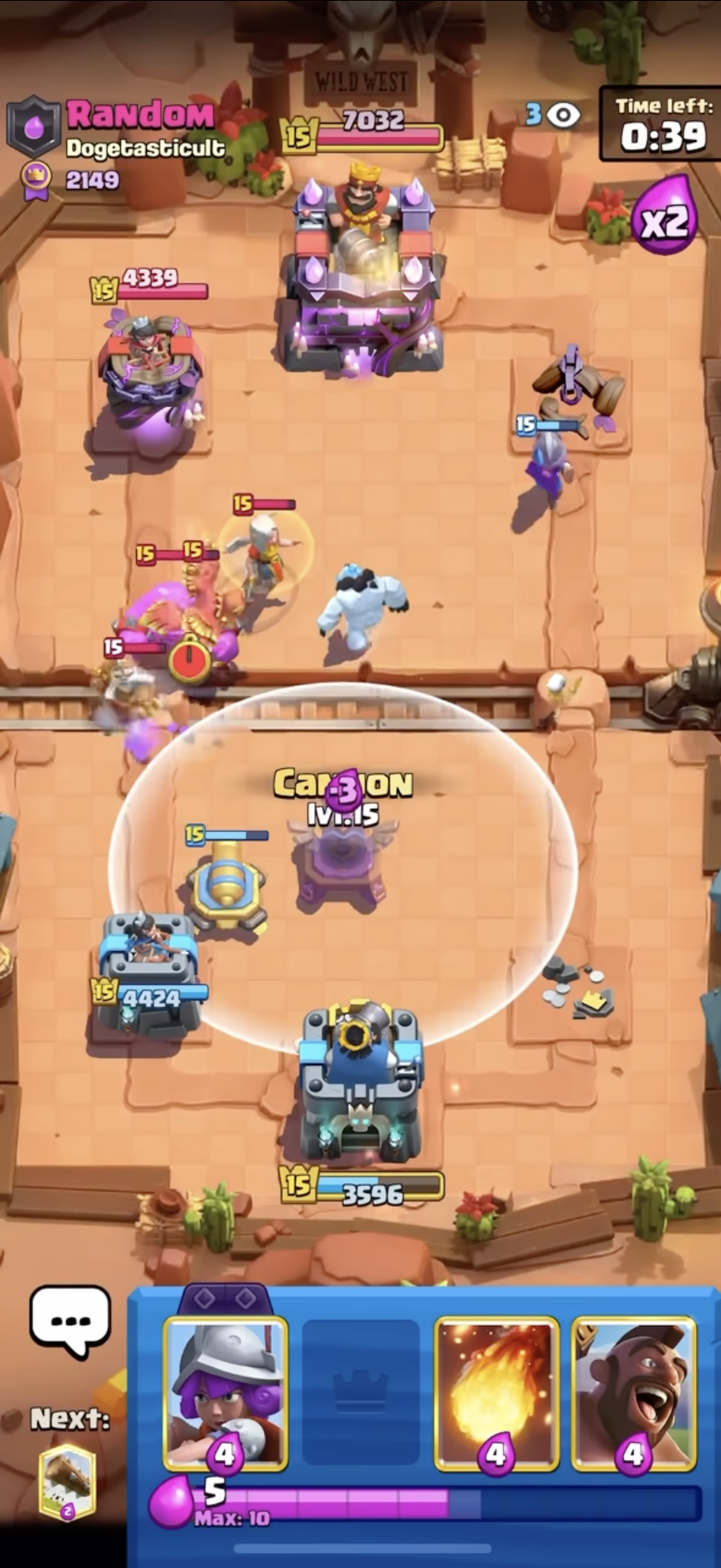cannon: (163, 808, 274, 951)
evo_musketeer: (506, 395, 598, 520)
ice_golem: (312, 556, 415, 691)
